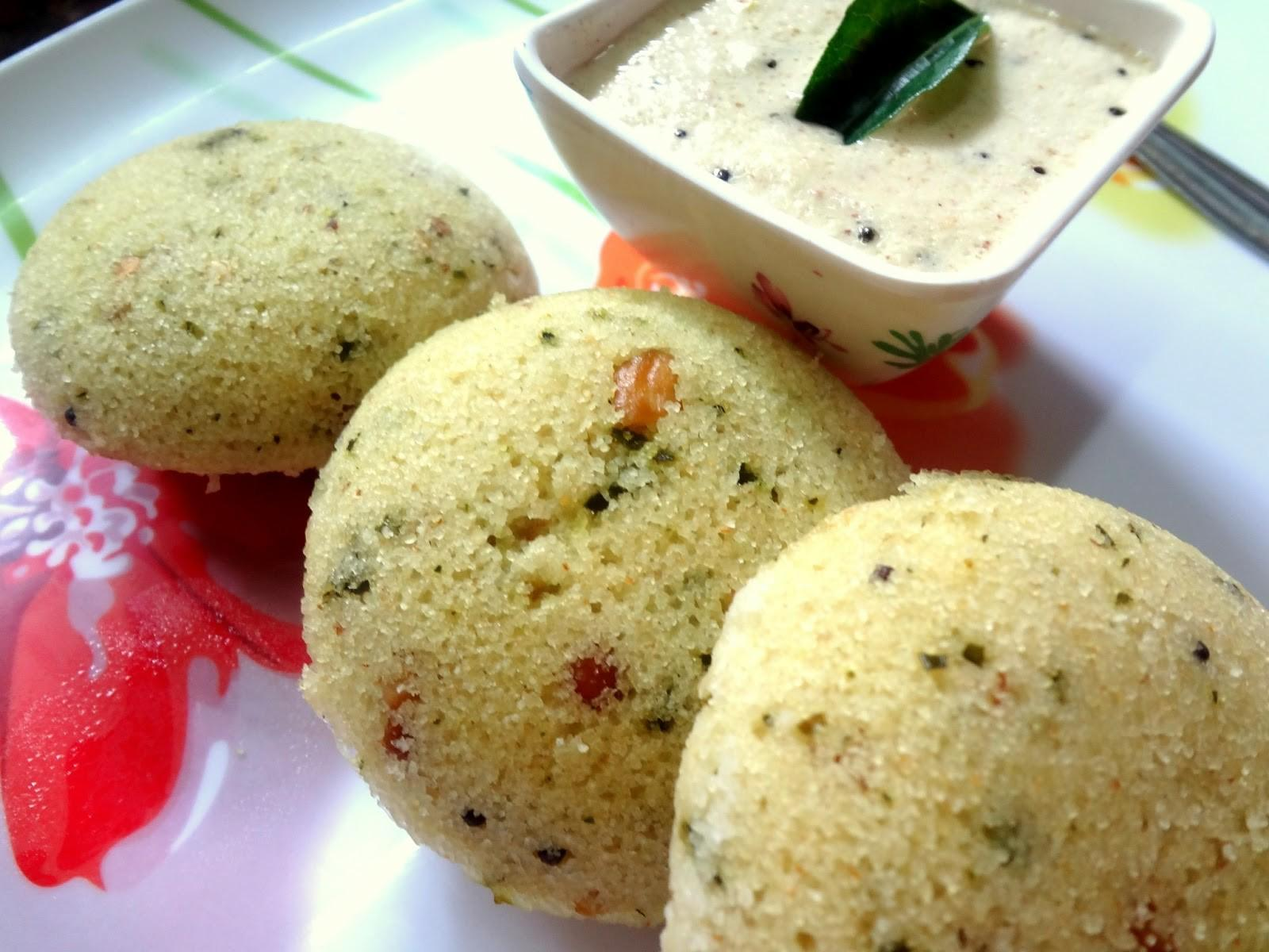CoconutChutney: (571, 2, 1154, 283)
Idli: (300, 292, 925, 924), (662, 473, 1269, 952), (13, 120, 538, 474)
